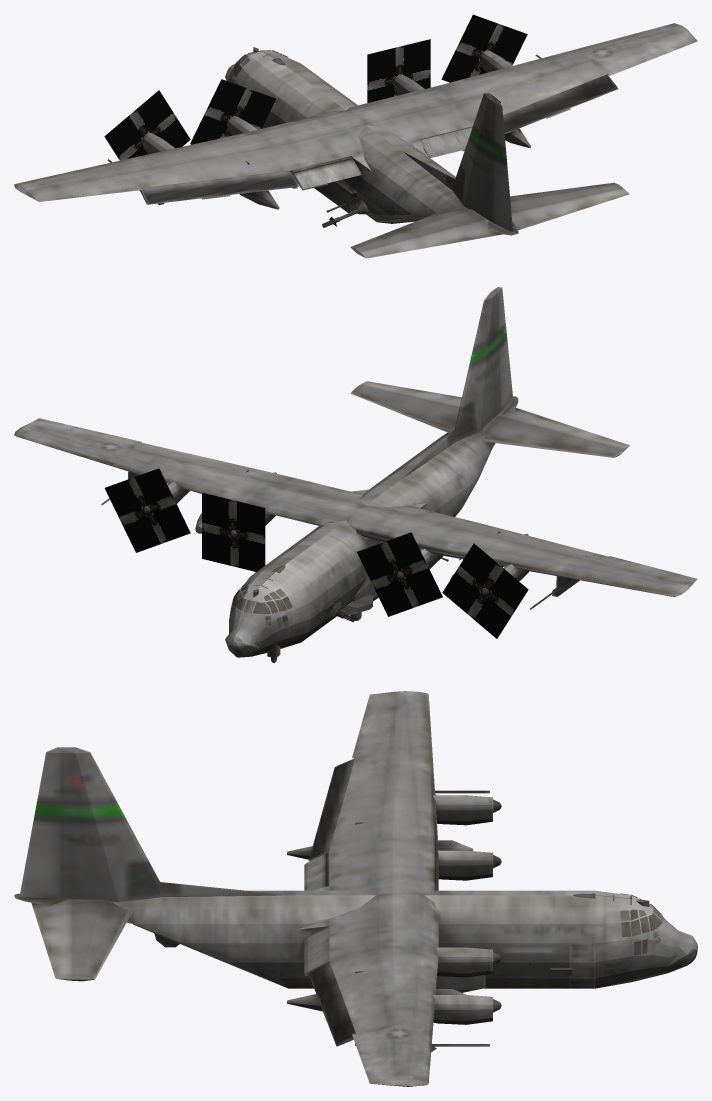
3 renders of one model, top to bottom at view 1: azimuth 30°, elevation 25°; view 2: azimuth 150°, elevation 25°; view 3: azimuth 270°, elevation 25°, orthographic. The views are drawn at different scales.
Parts seen in each view (by area): view 1: hull, props01; view 2: hull, props01; view 3: hull.
Part boxes in pixels (left/top/right/bottom): hull: left=14, top=23, right=697, bottom=258; props01: left=104, top=14, right=527, bottom=160; hull: left=14, top=287, right=697, bottom=662; props01: left=104, top=468, right=528, bottom=638; hull: left=14, top=691, right=697, bottom=1086.
Bounding box in the file's own units: 39.51 × 11.16 × 28.98.
2 materials, 2 textured.
